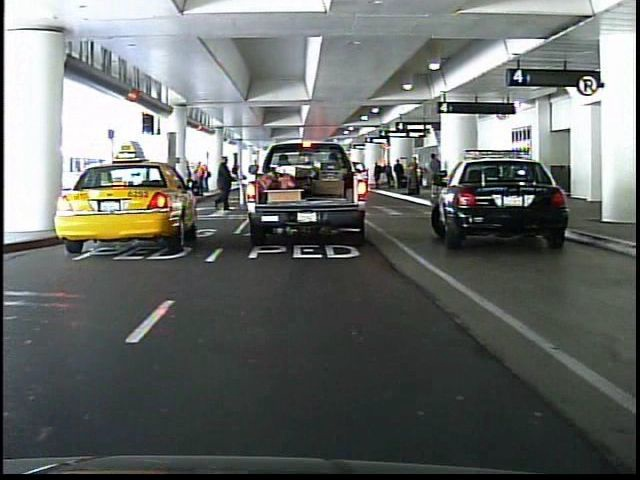person: (207, 154, 235, 213), (274, 146, 298, 203)
